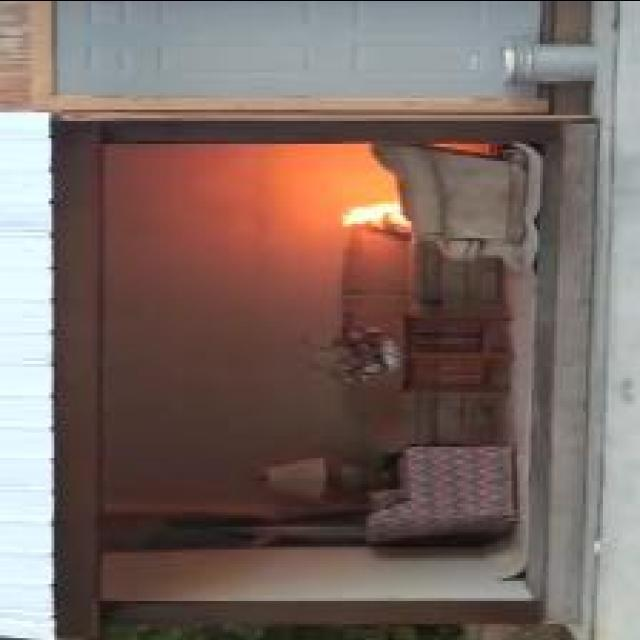Fire: (342, 200, 416, 234)
